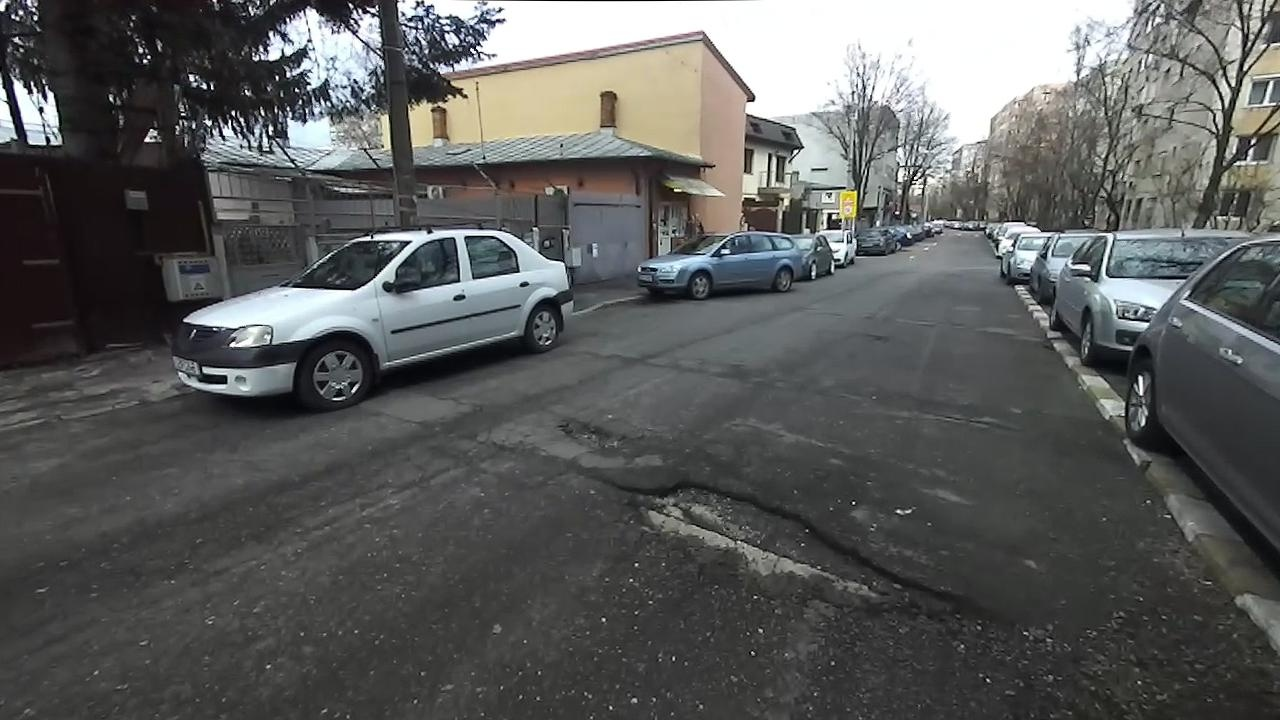pothole: (590, 472, 1000, 630), (547, 409, 640, 452), (916, 403, 1001, 435)
